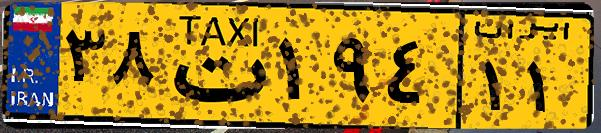1: (270, 28, 330, 110), (475, 38, 525, 113), (525, 38, 570, 115)
3: (57, 26, 110, 100)
4: (385, 28, 445, 110)
8: (110, 28, 158, 98)
9: (330, 28, 385, 110)
ت: (158, 12, 270, 120)
